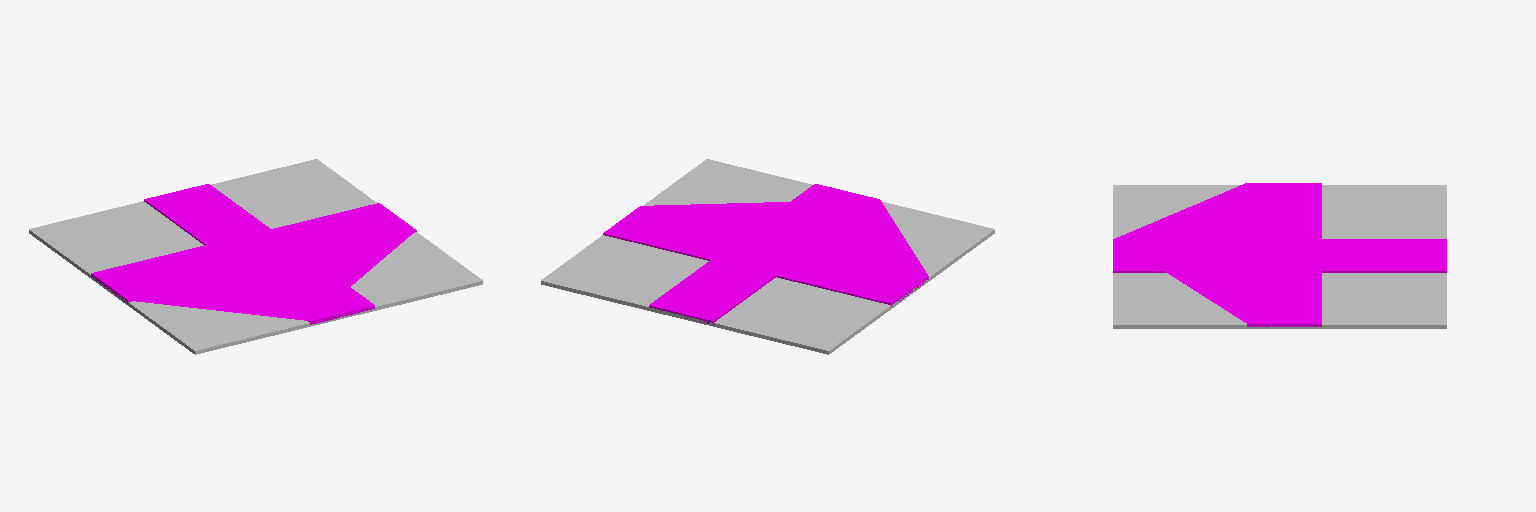
Rendered from cruz.obj.
3 renders of one model, left to right at view 1: azimuth 30°, elevation 25°; view 2: azimuth 150°, elevation 25°; view 3: azimuth 270°, elevation 25°, orthographic.
Visible parts, largest first — view 1: Plane, Plane.001; view 2: Plane, Plane.001; view 3: Plane, Plane.001.
Part boxes in pixels (bbox=[...]): Plane: bbox=[91, 184, 416, 324]; Plane.001: bbox=[29, 159, 482, 354]; Plane: bbox=[603, 184, 928, 324]; Plane.001: bbox=[541, 159, 994, 354]; Plane: bbox=[1113, 183, 1446, 326]; Plane.001: bbox=[1113, 185, 1446, 328].
Size of the model in its own units: 0.8 by 0.0146 by 0.8.